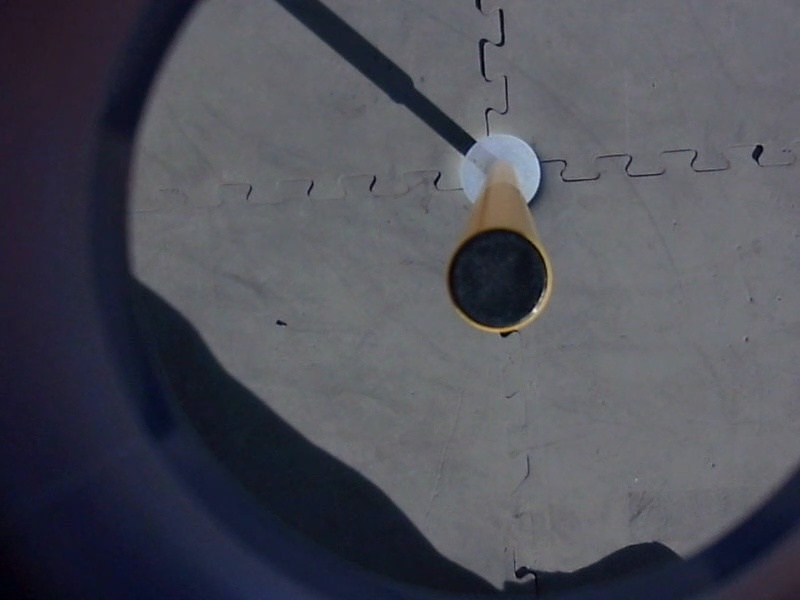tip: (438, 220, 558, 338)
